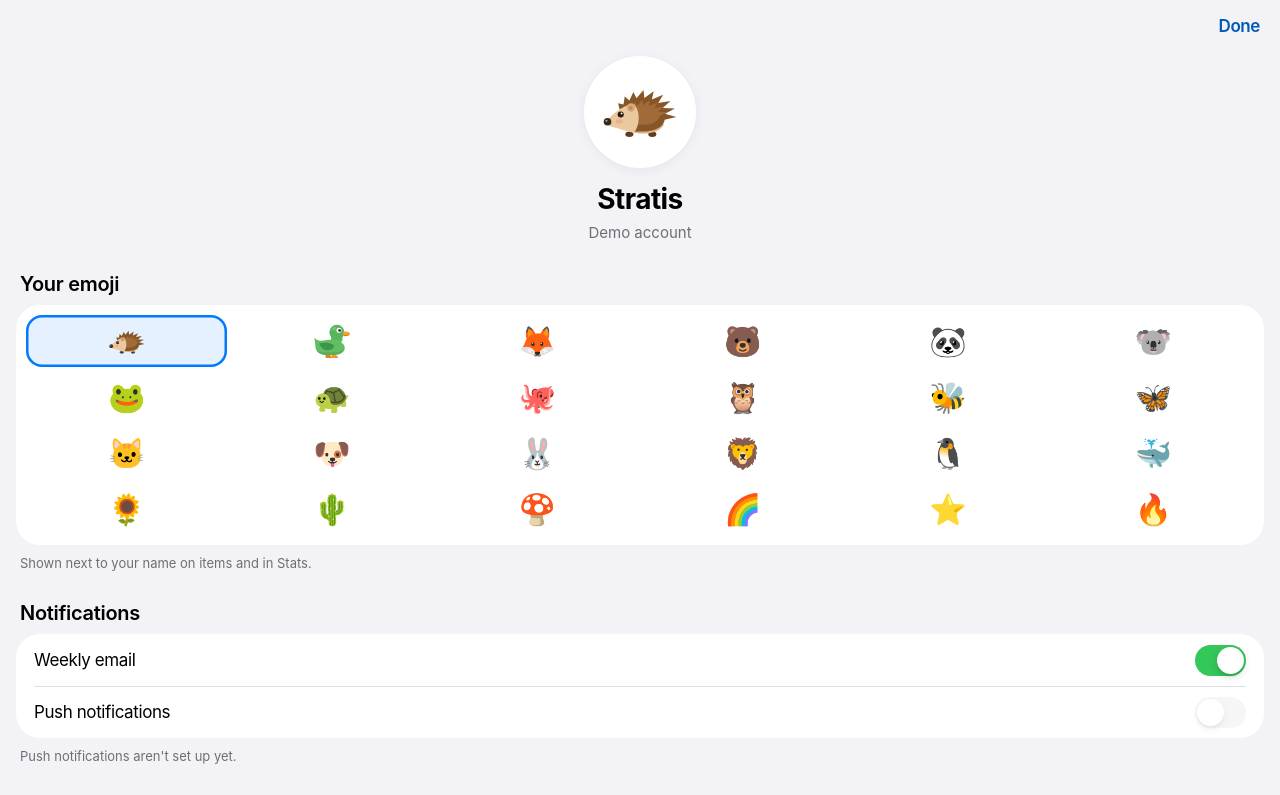
Test: Profile › shows the member and saves the emoji
The image size is (1280, 795).
Later steps or results of the test are not shown.
Expected: the field named "Your name" holds "Stratis", [20,182,1260,216]
Expected: the text "Demo account" is shown, [588,224,692,242]
Click the radio button labelled "🦉" at (743, 397), box [642,371,843,423]
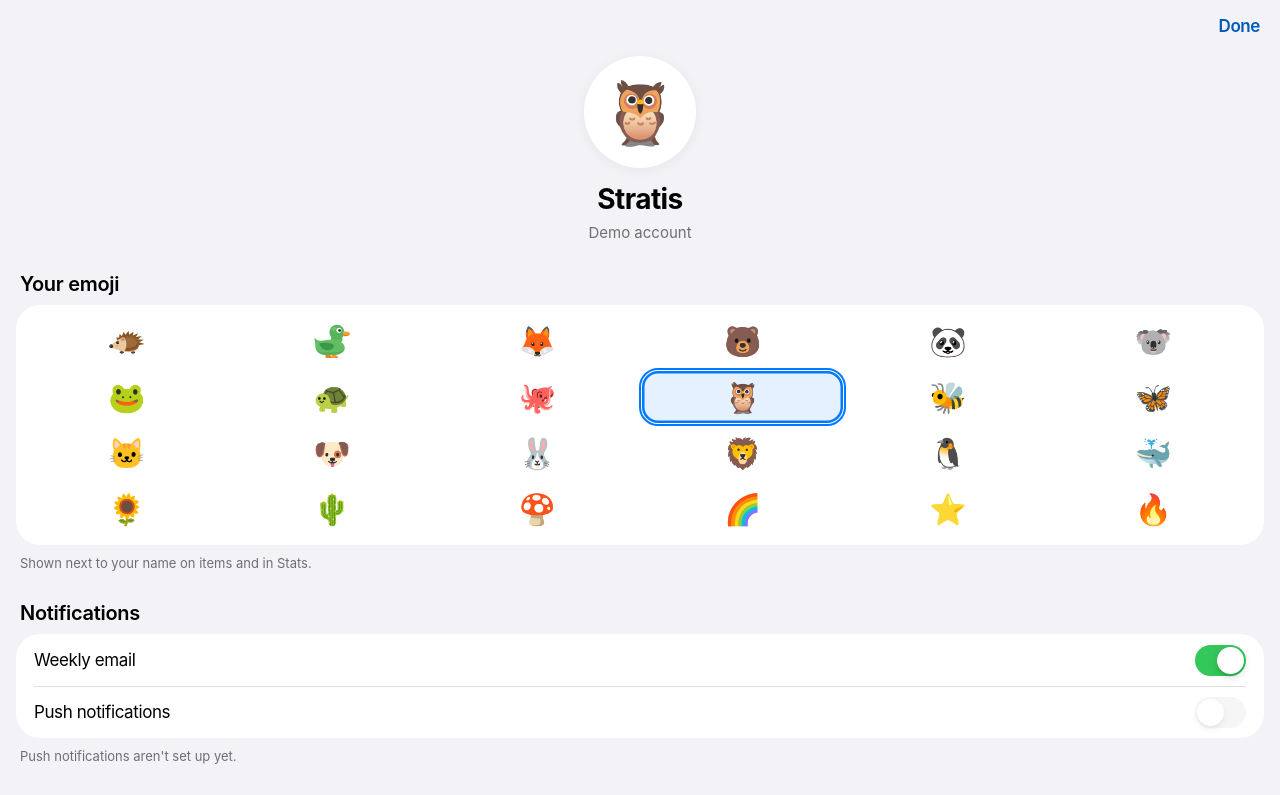
Result: the radio button labelled "🦉" is checked at [642,371,843,423]
